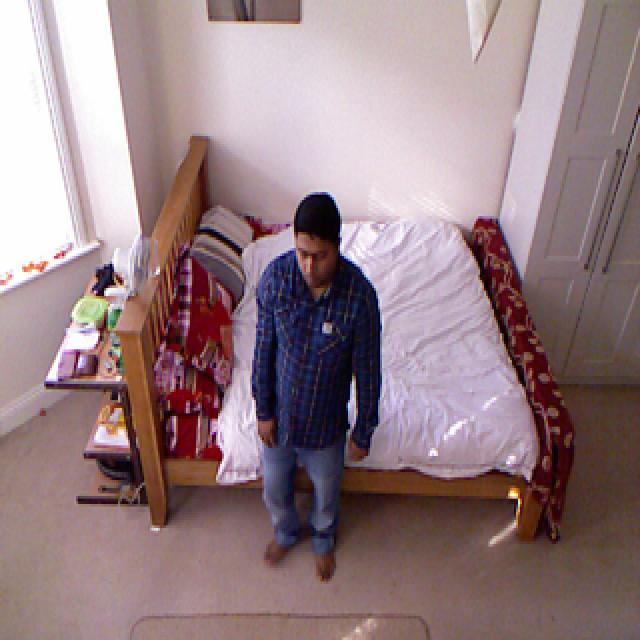standing: (251, 191, 381, 572)
